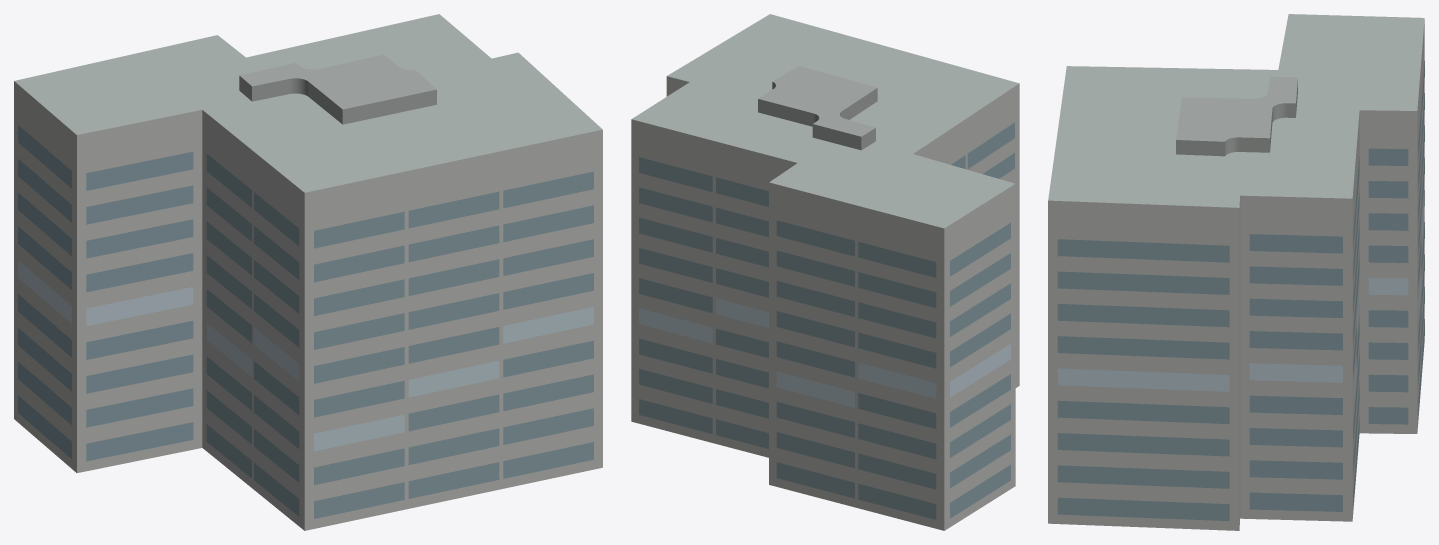
File: named-apt-609f14b2-aa93-4716-9710-15242b940da8.glb
3 views of the same model, side by side, from view 1: azimuth 30°, elevation 25°; view 2: azimuth 150°, elevation 25°; view 3: azimuth 270°, elevation 25° (orthographic). The views are drawn at different scales.
Parts seen in each view (by area): view 1: named-apt-609f14b2-aa93-4716-9710-15242b940da8; view 2: named-apt-609f14b2-aa93-4716-9710-15242b940da8; view 3: named-apt-609f14b2-aa93-4716-9710-15242b940da8.
Part boxes in pixels (box(x1,y1,x2,y2)): named-apt-609f14b2-aa93-4716-9710-15242b940da8: box(14, 14, 602, 530); named-apt-609f14b2-aa93-4716-9710-15242b940da8: box(631, 14, 1019, 530); named-apt-609f14b2-aa93-4716-9710-15242b940da8: box(1048, 14, 1424, 530).
Bounding box in the file's own units: 39.25 × 31.87 × 32.23.
